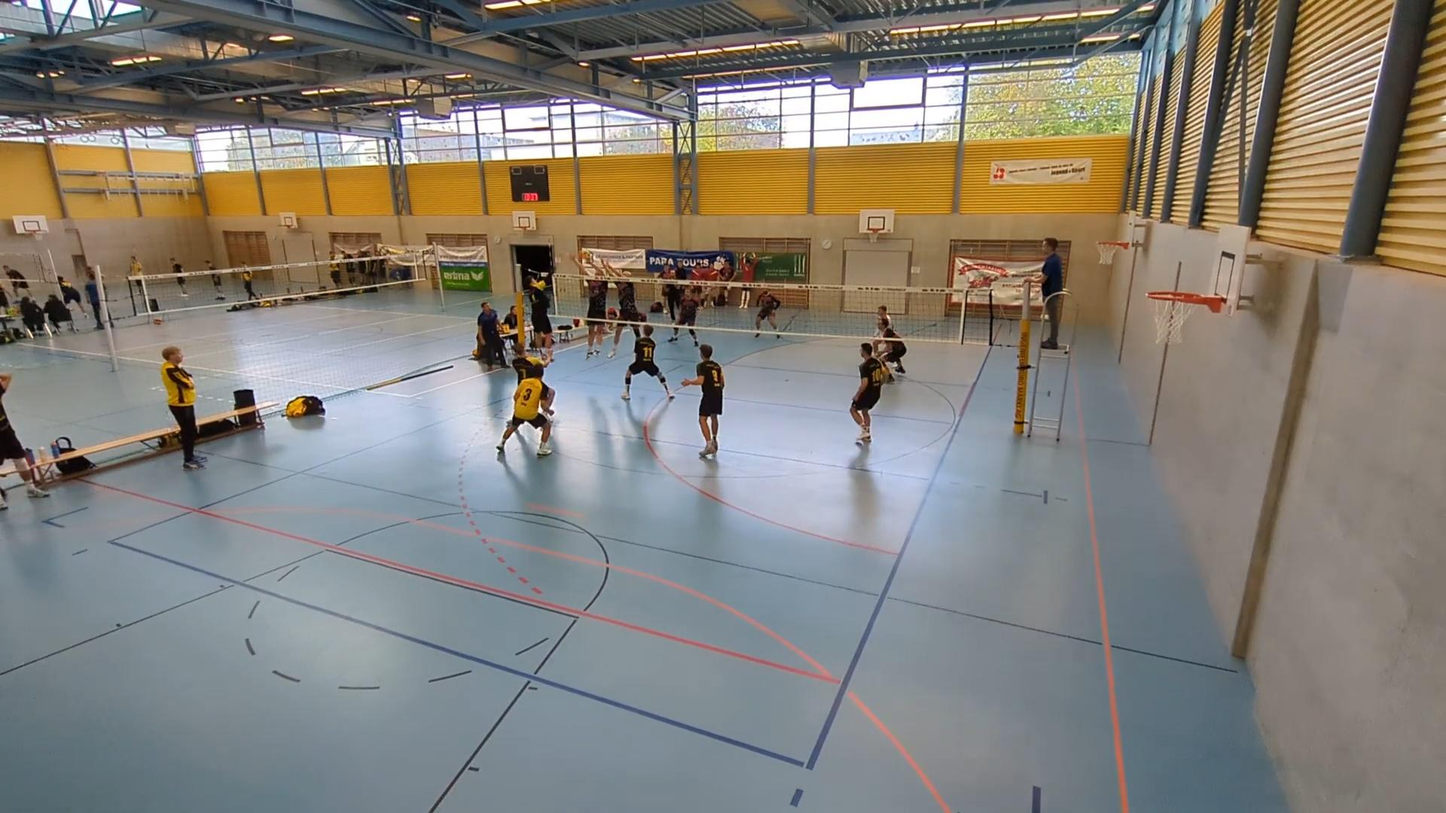attacco: (522, 261, 558, 364)
muro: (564, 247, 606, 360), (608, 258, 650, 364)
